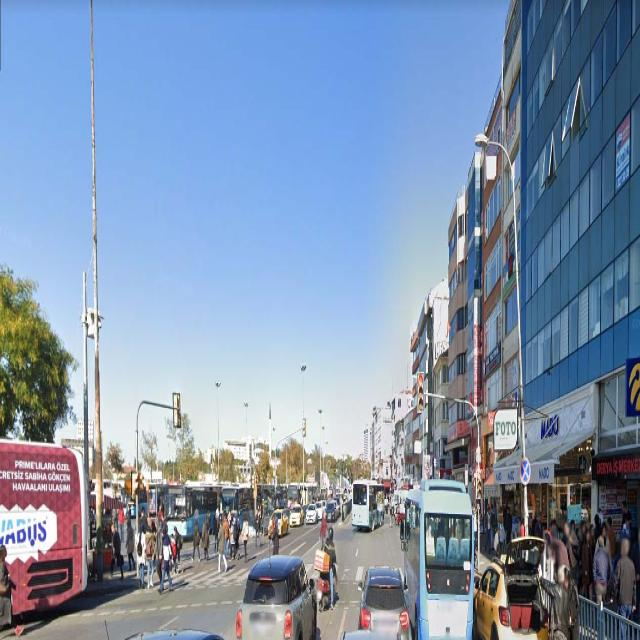kirmizi: (418, 372, 423, 413)
